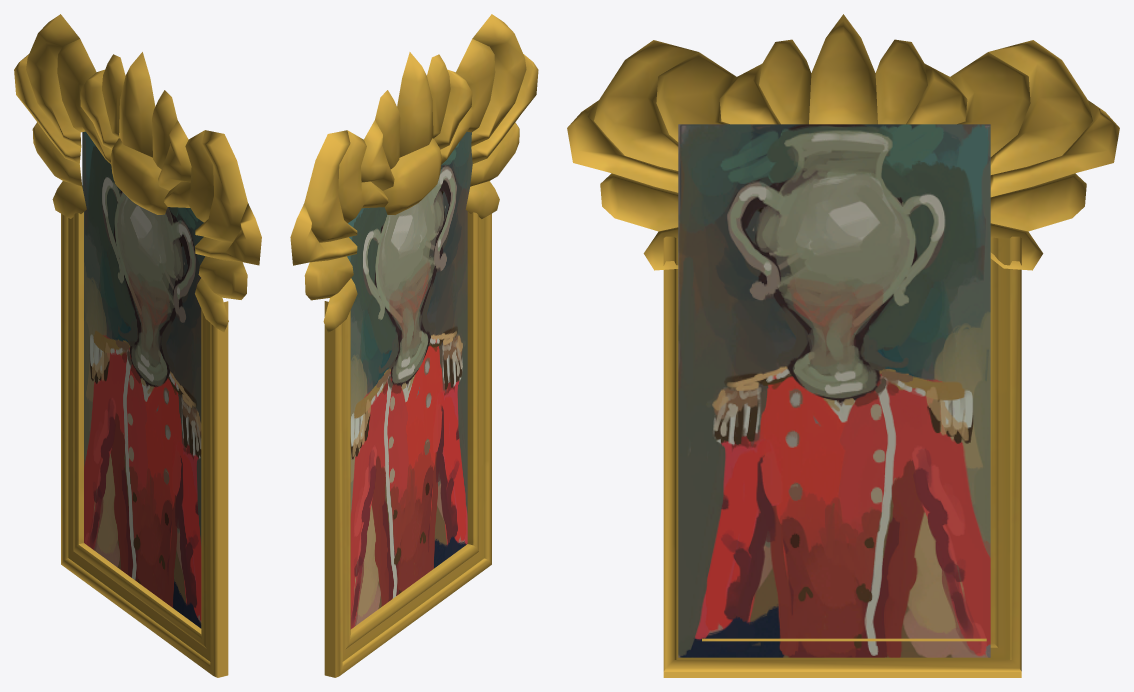
File: PaintingFrame4.fbx
3 renders of one model, left to right at view 1: azimuth 30°, elevation 25°; view 2: azimuth 150°, elevation 25°; view 3: azimuth 270°, elevation 25°, orthographic. The views are drawn at different scales.
Visible parts, largest first — view 1: paintingPicture4, painting4Detail, paintingFrame4; view 2: paintingPicture4, painting4Detail, paintingFrame4; view 3: paintingPicture4, painting4Detail, paintingFrame4.
Boxes of the visible parts, x1,y1,x2,y2 form: paintingPicture4: (82, 131, 205, 628); painting4Detail: (14, 14, 261, 332); paintingFrame4: (61, 212, 228, 677); paintingPicture4: (347, 131, 472, 629); painting4Detail: (290, 14, 538, 332); paintingFrame4: (324, 212, 491, 677); paintingPicture4: (678, 124, 990, 657); painting4Detail: (567, 14, 1119, 270); paintingFrame4: (663, 236, 1021, 677).
Size of the model in its own units: 0.365 by 7.3 by 5.55.
